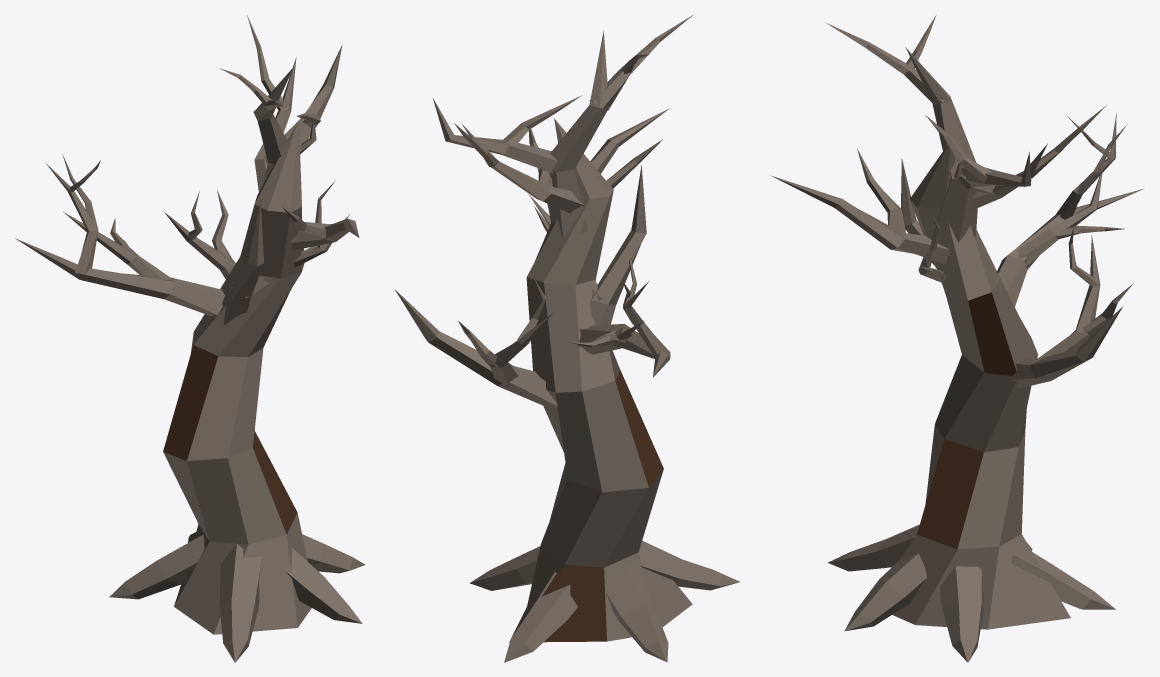
The model's file is Veg_Totbaum.fbx.
The picture shows the model from 3 angles, left to right: view 1: azimuth 30°, elevation 25°; view 2: azimuth 150°, elevation 25°; view 3: azimuth 270°, elevation 25°; orthographic projection. The views are drawn at different scales.
Visible parts, largest first — view 1: Veg_Totbaum; view 2: Veg_Totbaum; view 3: Veg_Totbaum.
Boxes of the visible parts, x1,y1,x2,y2 form: Veg_Totbaum: (15, 15, 365, 662); Veg_Totbaum: (395, 15, 739, 662); Veg_Totbaum: (771, 14, 1144, 662).
Size of the model in its own units: 2.6 by 5 by 3.
